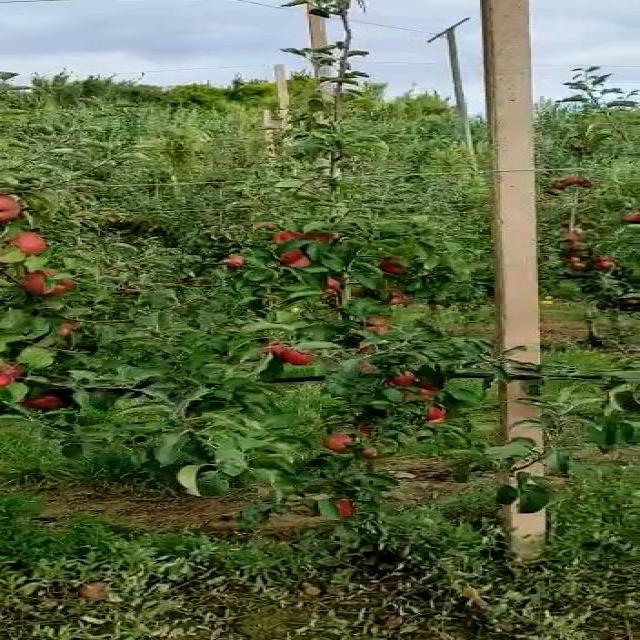100-_ripeness: (18, 267, 80, 298), (271, 345, 322, 369), (376, 255, 429, 277), (326, 429, 368, 455), (382, 361, 418, 391), (6, 232, 49, 257), (274, 249, 322, 270), (18, 391, 62, 413), (2, 193, 36, 221), (278, 226, 324, 243), (371, 289, 413, 305), (413, 403, 447, 422), (2, 365, 31, 387), (225, 253, 262, 268)
